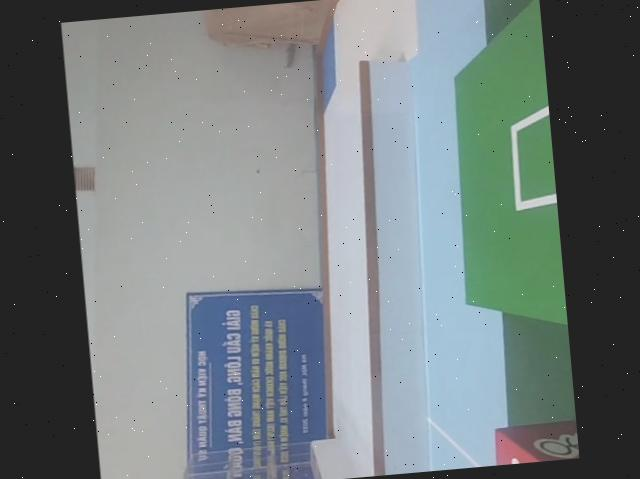R2 Real: (486, 415, 579, 466)
